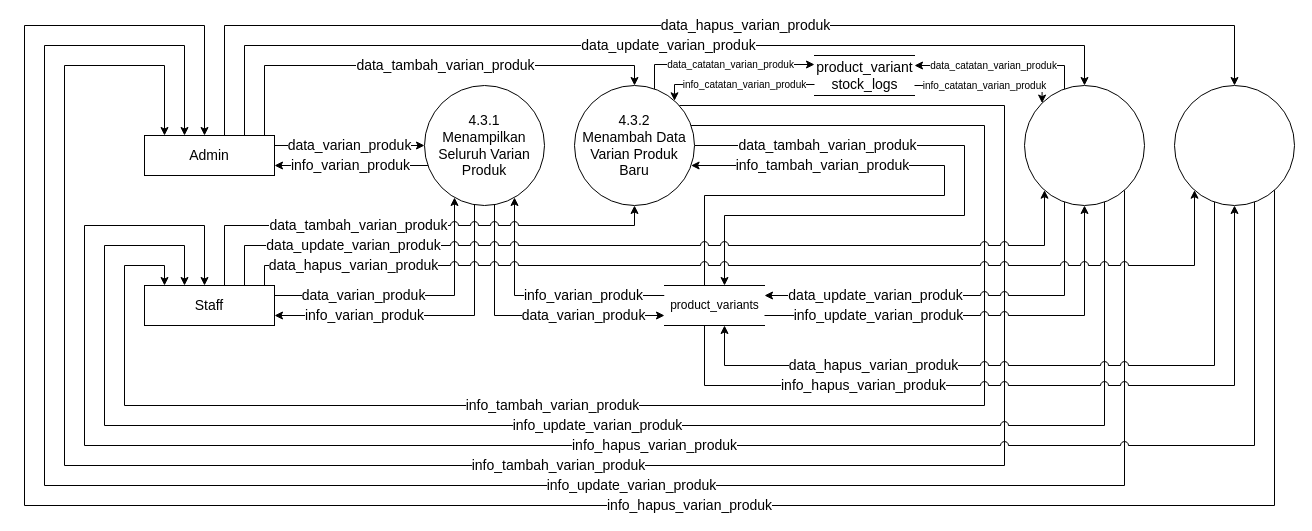
The diagram is 1312 pixels wide and 531 high, and some of its shapes have lost their labels. Each missing label, with the centre of its shape:
4.3.3 Mengubah Data Varian Produk: (x=1084, y=145)
4.3.4 Menghapus Data Varian Produk: (x=1234, y=145)
